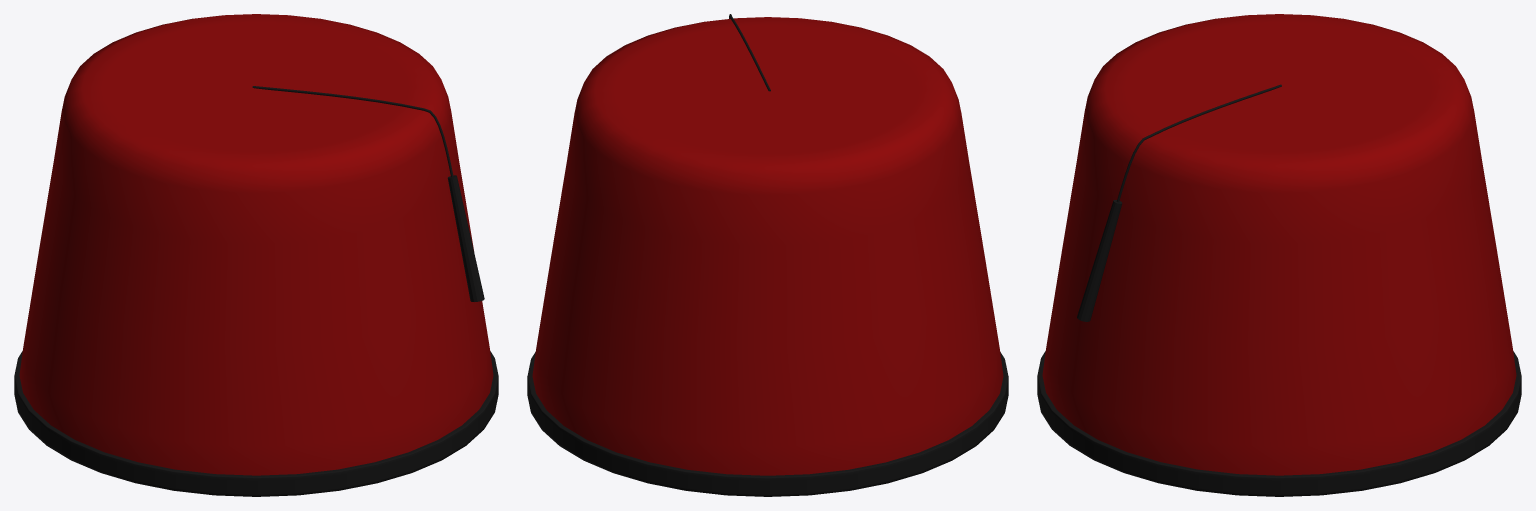
The model's file is Hat_fez.FBX.
3 renders of one model, left to right at view 1: azimuth 30°, elevation 25°; view 2: azimuth 150°, elevation 25°; view 3: azimuth 270°, elevation 25°, orthographic.
Visible parts, largest first — view 1: Cylinder045; view 2: Cylinder045; view 3: Cylinder045.
Boxes of the visible parts, bbox=[...] form: Cylinder045: bbox=[14, 14, 498, 496]; Cylinder045: bbox=[527, 14, 1008, 496]; Cylinder045: bbox=[1037, 14, 1521, 496].
Size of the model in its own units: 18.88 by 13.42 by 18.87.
